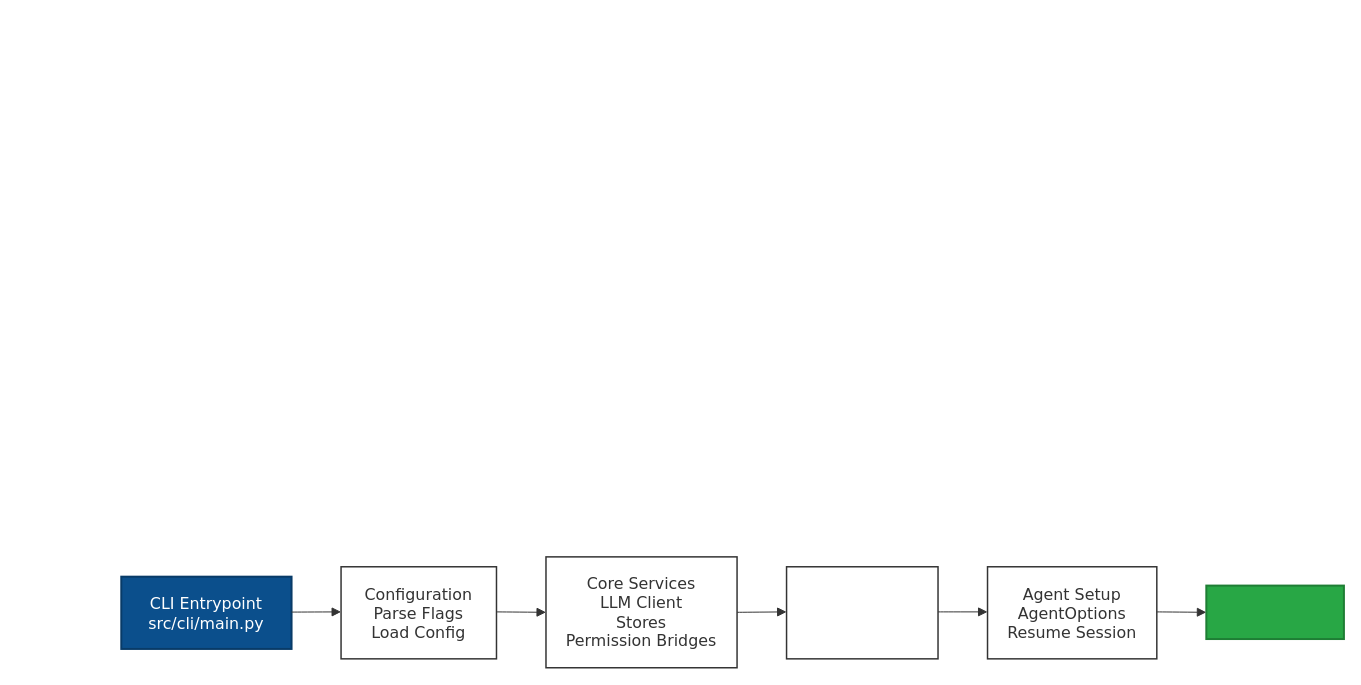
Some shapes in this 1361 by 685 pixel diagram are drawn without their labels. Each missing label, with the box of its shape:
KAgent TUI: (1205, 584, 1344, 640)
Tool Registry Built-in Tools MCP Tools: (785, 566, 938, 659)
